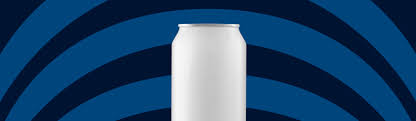can: (166, 20, 252, 121)
